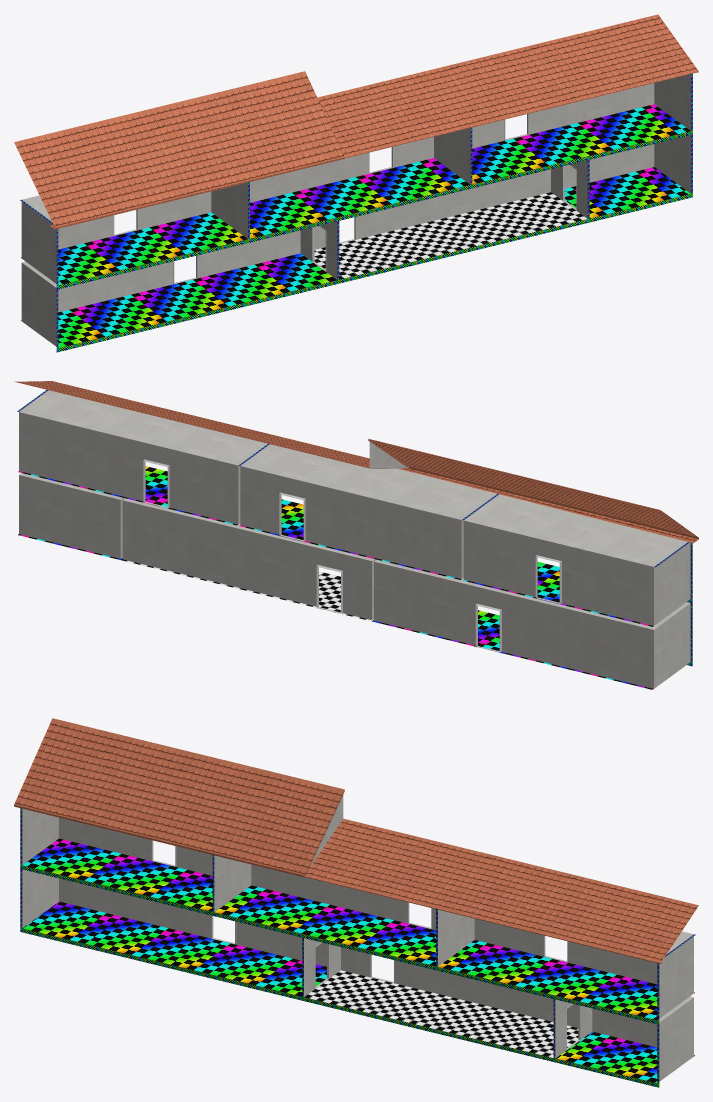
Rendered from HausFront.FBX.
3 views of the same model, one above another, from view 1: azimuth 30°, elevation 25°; view 2: azimuth 150°, elevation 25°; view 3: azimuth 330°, elevation 25° (orthographic).
Parts seen in each view (by area): view 1: FrontRoof, FrontLowerDiningFloor, FrontLowerKitchenFloor, FrontLowerDiningWall, FrontUpperWorkFloor, FrontUpperParentsFloor, FrontBeams, FrontUpperGrandpaWall, FrontUpperGrandpaFloor, FrontLowerKitchenWall, FrontUpperWorkWall, FrontUpperParentsWall (+3 smaller); view 2: FrontLowerDiningWall, FrontLowerKitchenWall, FrontUpperGrandpaWall, FrontUpperWorkWall, FrontUpperParentsWall, FrontRoof, FrontUpperWorkCeiling, FrontUpperGrandpaCeiling, FrontUpperParentsCeiling, FrontLowerStoreWall, FrontDoorFrame, FrontLowerDiningFloor (+8 smaller); view 3: FrontRoof, FrontLowerDiningFloor, FrontLowerKitchenFloor, FrontUpperWorkFloor, FrontUpperParentsFloor, FrontBeams, FrontLowerDiningWall, FrontUpperParentsWall, FrontUpperGrandpaFloor, FrontLowerKitchenWall, FrontUpperWorkWall, FrontLowerStoreWall (+3 smaller).
Boxes of the visible parts, <box> form: FrontRoof: <box>14,14,698,229</box>; FrontLowerDiningFloor: <box>20,253,336,347</box>; FrontLowerKitchenFloor: <box>314,192,586,279</box>; FrontLowerDiningWall: <box>21,221,337,346</box>; FrontUpperWorkFloor: <box>250,158,470,238</box>; FrontUpperParentsFloor: <box>472,104,690,184</box>; FrontBeams: <box>20,73,692,352</box>; FrontUpperGrandpaWall: <box>21,182,247,283</box>; FrontUpperGrandpaFloor: <box>21,212,247,285</box>; FrontLowerKitchenWall: <box>314,160,587,249</box>; FrontUpperWorkWall: <box>250,128,470,202</box>; FrontUpperParentsWall: <box>472,74,690,148</box>; FrontLowerDiningWall: <box>374,561,690,688</box>; FrontLowerKitchenWall: <box>122,500,375,619</box>; FrontUpperGrandpaWall: <box>463,520,690,625</box>; FrontUpperWorkWall: <box>240,466,463,578</box>; FrontUpperParentsWall: <box>19,412,240,524</box>; FrontRoof: <box>14,381,698,543</box>; FrontUpperWorkCeiling: <box>240,444,496,519</box>; FrontUpperGrandpaCeiling: <box>464,494,687,566</box>; FrontUpperParentsCeiling: <box>19,390,267,465</box>; FrontLowerStoreWall: <box>19,475,124,558</box>; FrontDoorFrame: <box>143,459,561,653</box>; FrontLowerDiningFloor: <box>372,610,653,689</box>; FrontRoof: <box>14,718,698,963</box>; FrontLowerDiningFloor: <box>22,901,326,996</box>; FrontLowerKitchenFloor: <box>304,970,578,1057</box>; FrontUpperWorkFloor: <box>215,885,435,966</box>; FrontUpperParentsFloor: <box>438,940,694,1020</box>; FrontBeams: <box>20,808,695,1087</box>; FrontLowerDiningWall: <box>22,869,326,966</box>; FrontUpperParentsWall: <box>438,909,693,1018</box>; FrontUpperGrandpaFloor: <box>22,838,212,911</box>; FrontLowerKitchenWall: <box>304,938,578,1027</box>; FrontUpperWorkWall: <box>214,855,435,930</box>; FrontLowerStoreWall: <box>555,998,693,1081</box>.
Bounding box in the file's own units: 1355 × 370 × 147.
